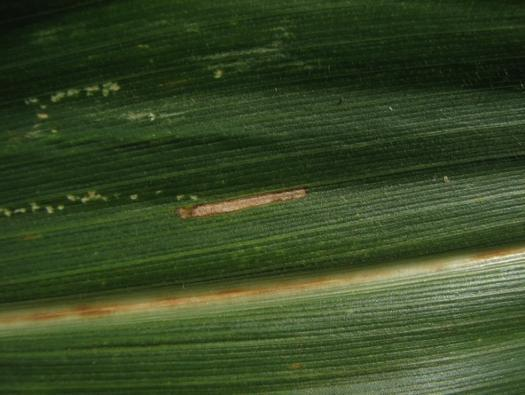Gray_Leaf_Spot: (173, 178, 311, 224), (200, 43, 302, 85), (20, 74, 129, 105), (50, 287, 113, 328), (0, 291, 51, 335), (422, 247, 478, 287), (0, 196, 77, 224), (112, 284, 176, 317), (174, 281, 239, 312), (226, 279, 301, 304), (111, 179, 157, 219), (353, 262, 429, 286), (294, 274, 361, 301), (472, 238, 525, 269), (426, 165, 475, 193), (116, 102, 165, 129), (69, 180, 111, 209), (25, 106, 57, 143), (279, 16, 311, 39), (285, 354, 305, 379), (10, 219, 12, 221)
